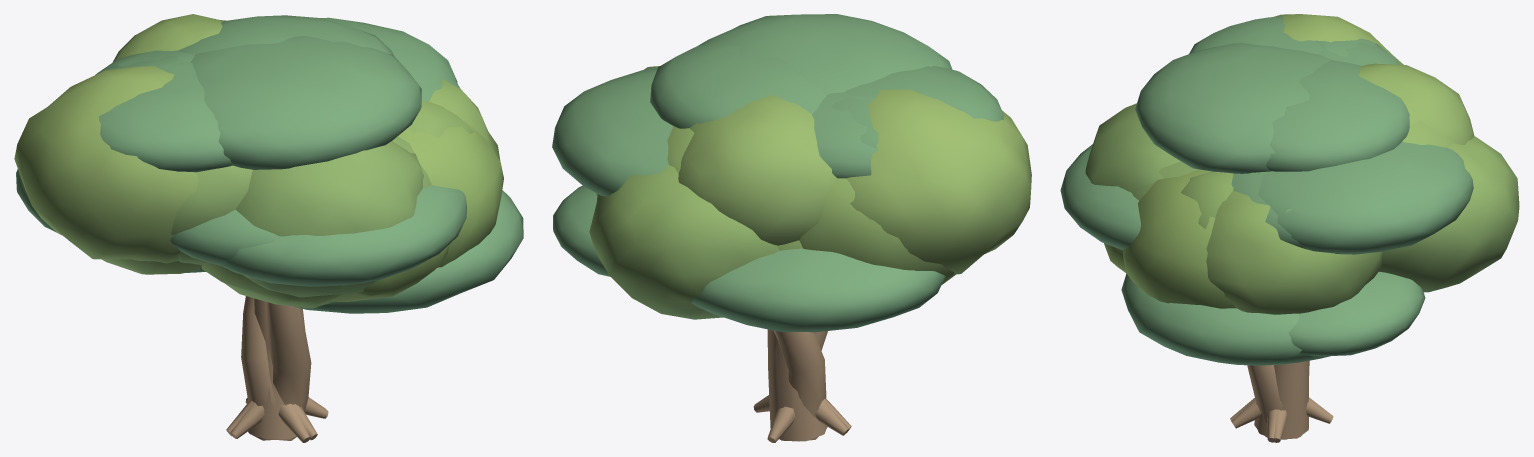
Rendered from trees.glb.
3 views of the same model, side by side, from view 1: azimuth 30°, elevation 25°; view 2: azimuth 150°, elevation 25°; view 3: azimuth 270°, elevation 25° (orthographic). The views are drawn at different scales.
Parts seen in each view (by area): view 1: Pine1, Broad1, Broad0, Pine0; view 2: Broad1, Pine0, Broad0, Pine1; view 3: Broad1, Pine0, Pine1, Broad0.
Boxes of the visible parts, <box> form: Pine1: <box>98,35,523,440</box>; Broad1: <box>14,66,503,440</box>; Broad0: <box>112,14,473,442</box>; Pine0: <box>16,15,457,440</box>; Broad1: <box>589,66,1031,442</box>; Pine0: <box>552,40,945,440</box>; Broad0: <box>667,95,848,442</box>; Pine1: <box>698,14,1003,350</box>; Broad1: <box>1122,14,1519,442</box>; Pine0: <box>1258,41,1473,356</box>; Pine1: <box>1060,16,1376,439</box>; Broad0: <box>1085,63,1474,442</box>.
Bounding box in the file's own units: 5.57 × 4.62 × 5.36.
